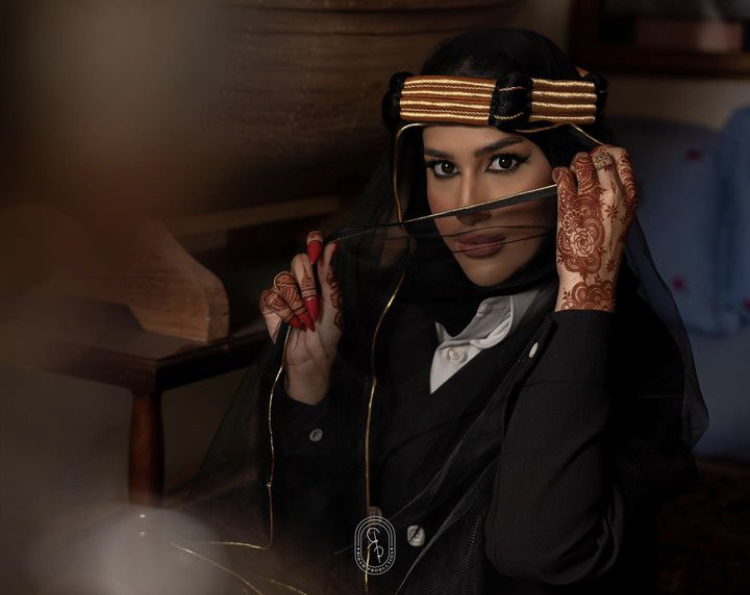Saudi_Founding_Day: (168, 25, 712, 595)
